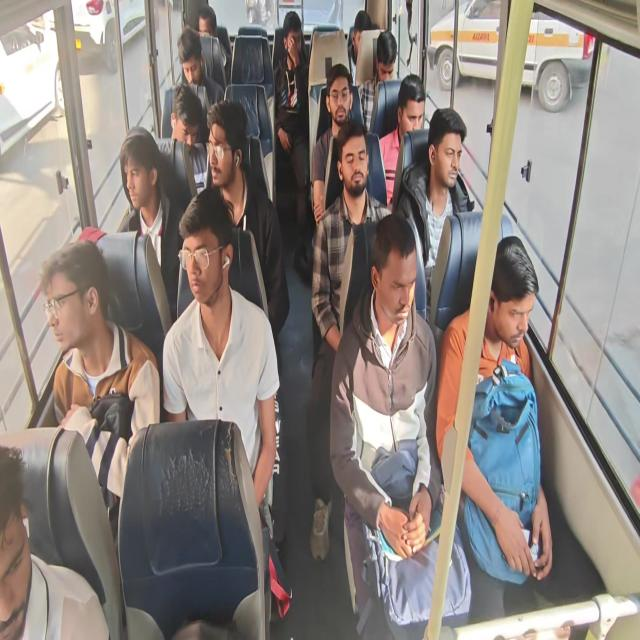person: (328, 212, 472, 638), (435, 235, 553, 586), (162, 186, 280, 532), (307, 119, 393, 562), (40, 239, 160, 541), (178, 98, 290, 342), (0, 444, 110, 639), (395, 106, 474, 312), (117, 125, 184, 322), (274, 11, 310, 275), (310, 62, 354, 226), (378, 74, 426, 207), (157, 83, 208, 193), (357, 30, 398, 131), (176, 27, 224, 107), (198, 5, 228, 84), (169, 83, 202, 146), (347, 9, 372, 85), (198, 5, 217, 36)
